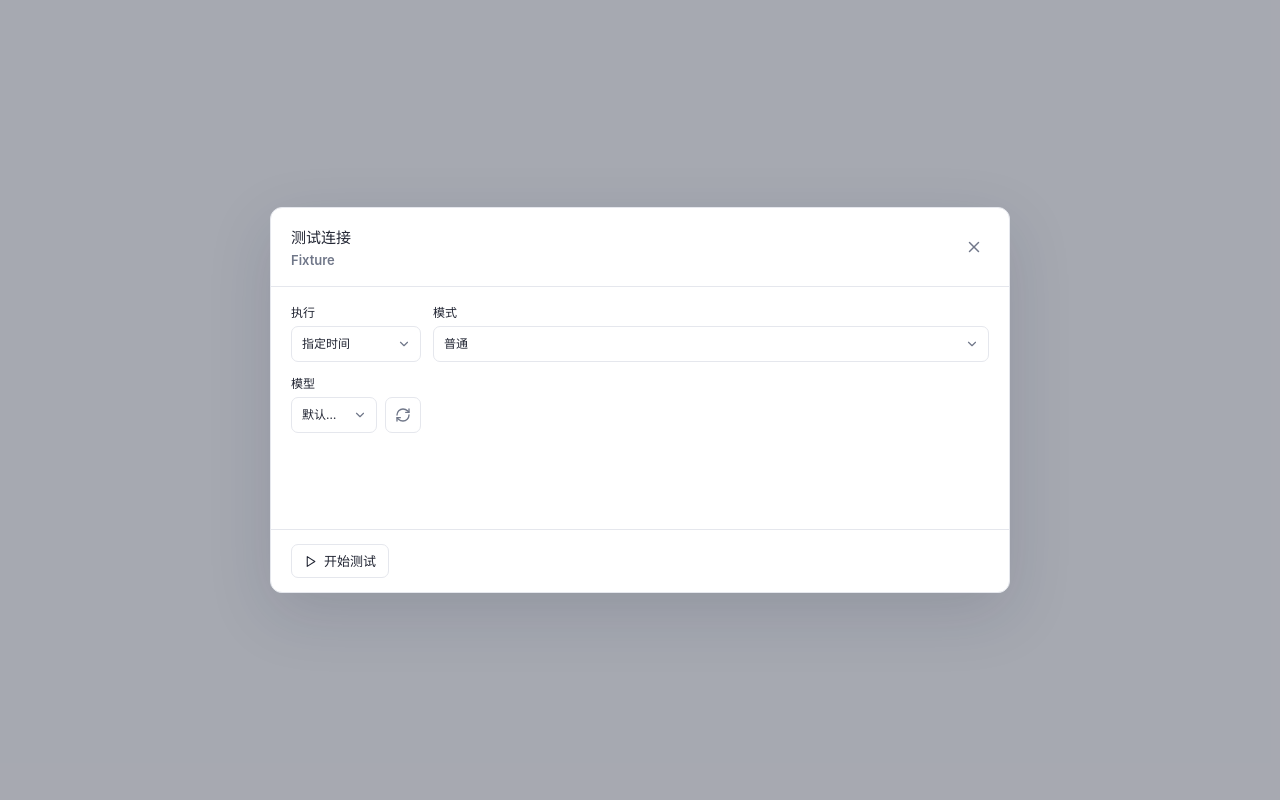
Scenario: keeps the appointment dialog open when submission is rejected
Select "指定时间" in the dropdown named "执行方式": (356, 344) [291,326,421,362]
Select "指定时间" in the dropdown named "执行方式": (356, 344) [291,326,421,362]
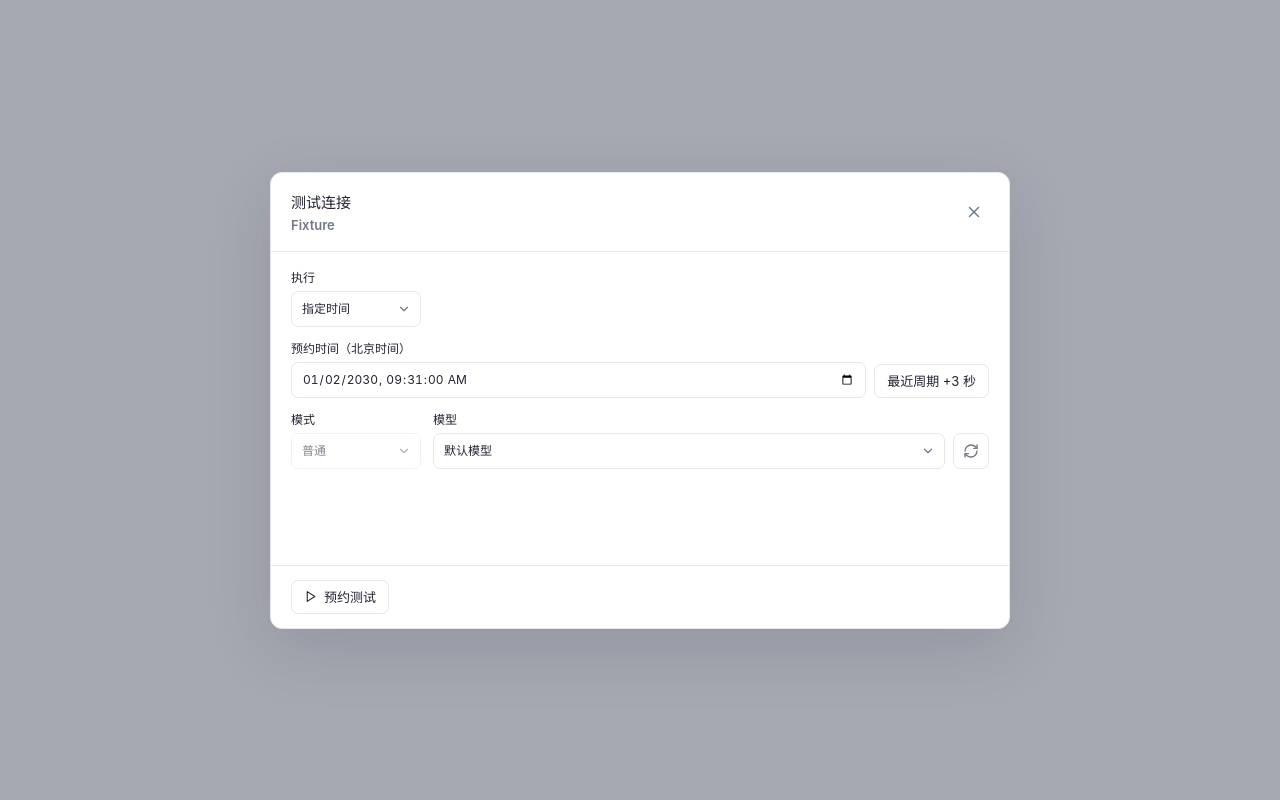
Click the button "预约测试": (340, 596) [291,580,389,614]
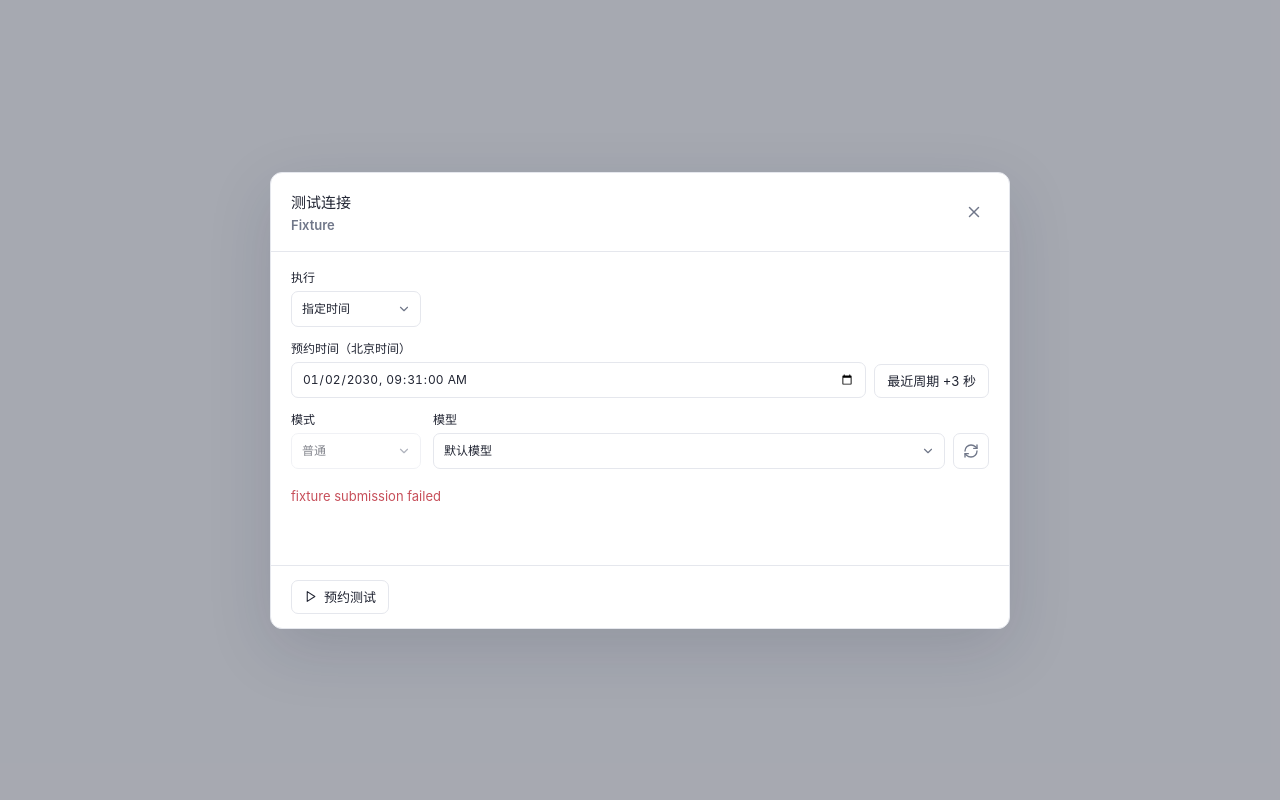
expect the message "fixture submission failed" is shown: met, box [291,488,441,504]
